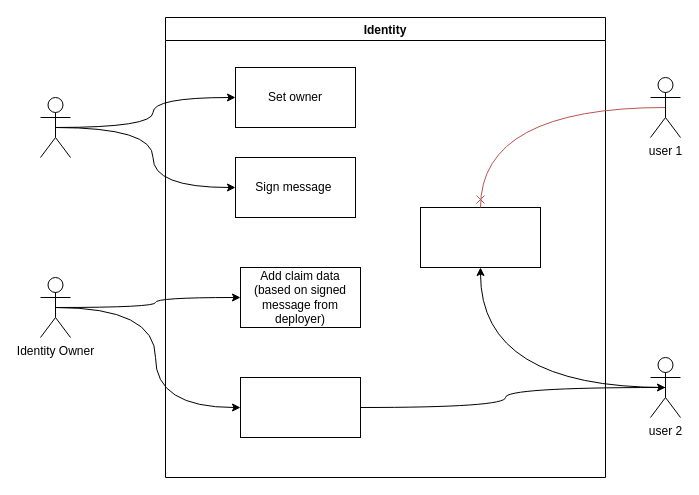
Image size: 699x495. Some labels were removed from this diagram. Here are the shapes that lost their labels. From the top down, the box of each, then its label:
(40, 96, 70, 158): deployer
(420, 206, 540, 268): Minting
(240, 376, 360, 438): Add owner
